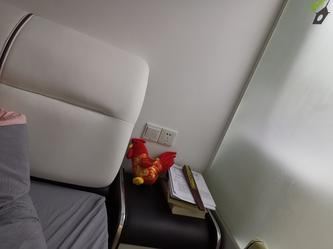switch: (148, 128, 159, 139)
